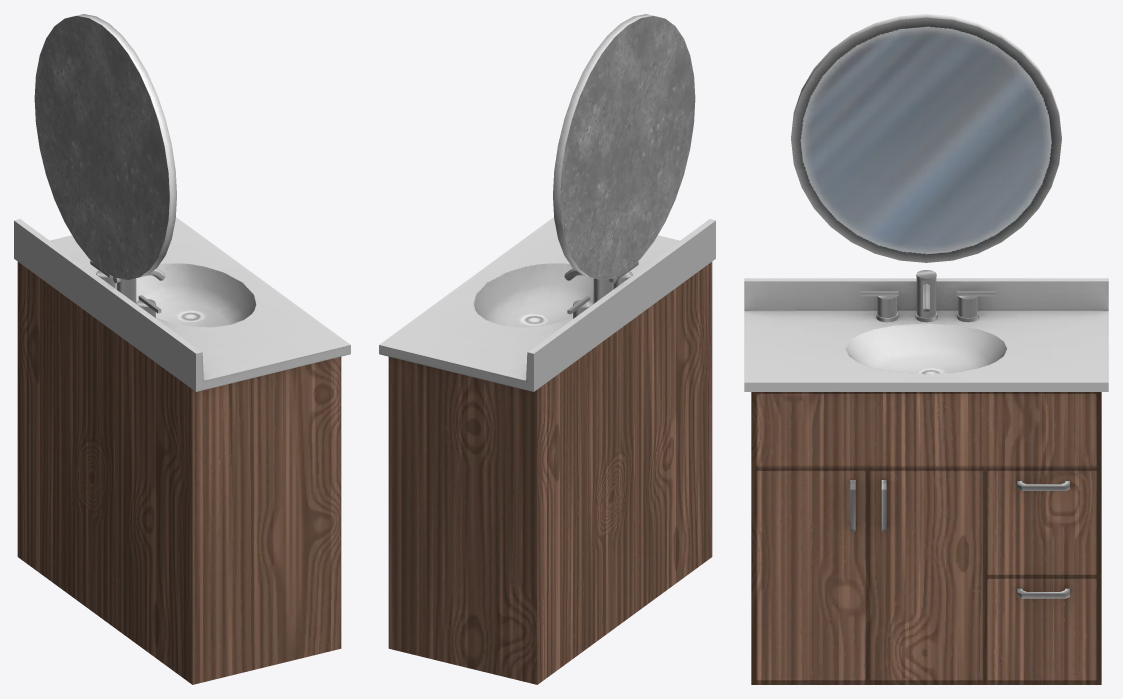
Rendered from bathroom_sink02.glb.
3 views of the same model, side by side, from view 1: azimuth 30°, elevation 25°; view 2: azimuth 150°, elevation 25°; view 3: azimuth 270°, elevation 25° (orthographic).
Parts seen in each view (by area): view 1: bathroom_sink02; view 2: bathroom_sink02; view 3: bathroom_sink02.
Boxes of the visible parts, x1,y1,x2,y2 form: bathroom_sink02: (14, 14, 350, 684); bathroom_sink02: (379, 14, 715, 684); bathroom_sink02: (744, 14, 1108, 684).
Size of the model in its own units: 0.335 by 1.17 by 0.6483.
Materials: 1 (1 with a texture image).
